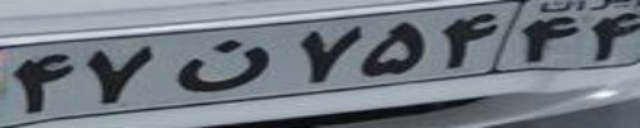4: (12, 54, 73, 112), (440, 14, 498, 69), (519, 16, 579, 64), (589, 12, 638, 62)
5: (364, 21, 426, 78)
7: (85, 47, 153, 104), (292, 28, 362, 82)
non: (174, 39, 271, 93)
